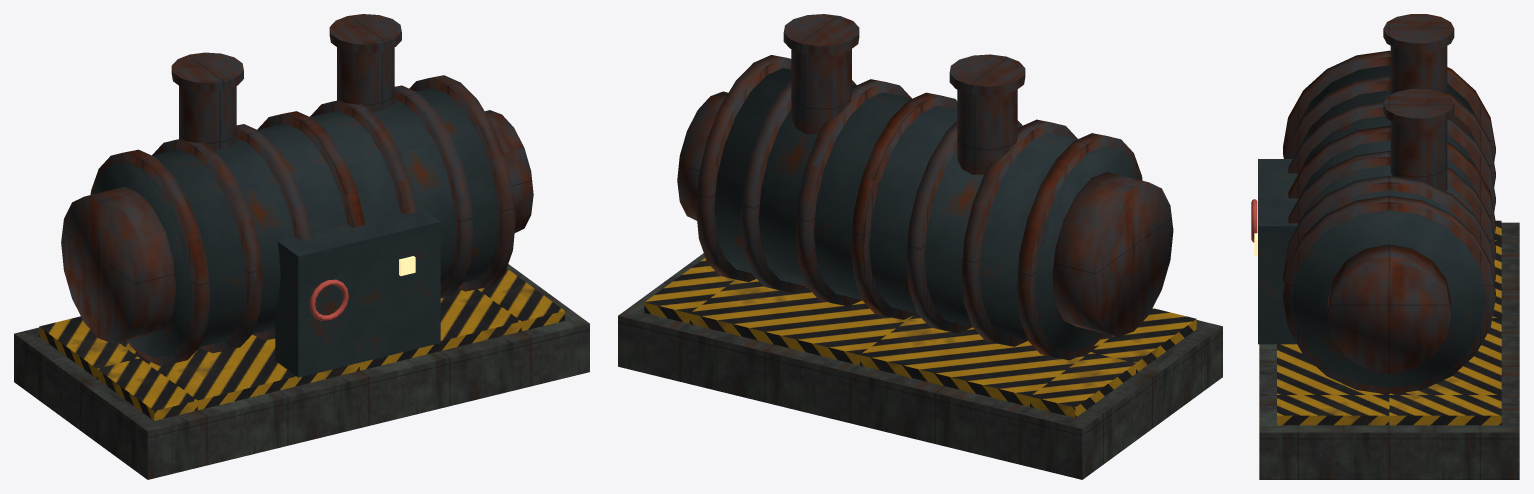
Rendered from Prop_TurbineGenerator.fbx.
3 renders of one model, left to right at view 1: azimuth 30°, elevation 25°; view 2: azimuth 150°, elevation 25°; view 3: azimuth 270°, elevation 25°, orthographic. The views are drawn at different scales.
Parts seen in each view (by area): view 1: Prop_TurbineGenerator; view 2: Prop_TurbineGenerator; view 3: Prop_TurbineGenerator.
Boxes of the visible parts, x1,y1,x2,y2 form: Prop_TurbineGenerator: (14, 14, 589, 479); Prop_TurbineGenerator: (618, 14, 1222, 479); Prop_TurbineGenerator: (1251, 14, 1519, 479).
Bounding box in the file's own units: 4.2 × 2.88 × 2.26.
